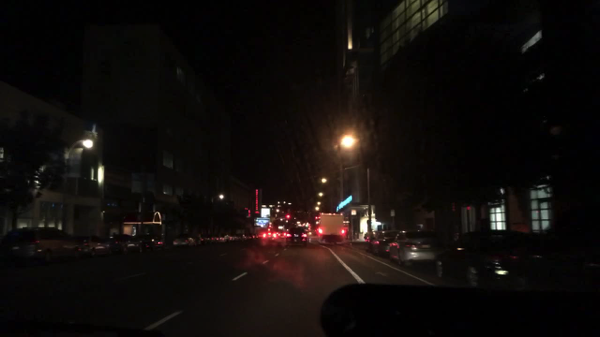car: (433, 229, 551, 289), (513, 233, 599, 301), (1, 228, 83, 266), (387, 230, 445, 270), (73, 235, 114, 258), (369, 230, 400, 256), (107, 235, 143, 255), (134, 233, 166, 252), (285, 228, 308, 246), (171, 234, 197, 248), (263, 229, 277, 241), (200, 233, 214, 244), (219, 233, 230, 243), (212, 235, 223, 243), (239, 233, 247, 240), (228, 234, 235, 242), (247, 233, 254, 240), (233, 234, 241, 240), (254, 234, 261, 239)
traffic light: (285, 214, 290, 219), (313, 216, 318, 220)
truck: (319, 213, 345, 242)
